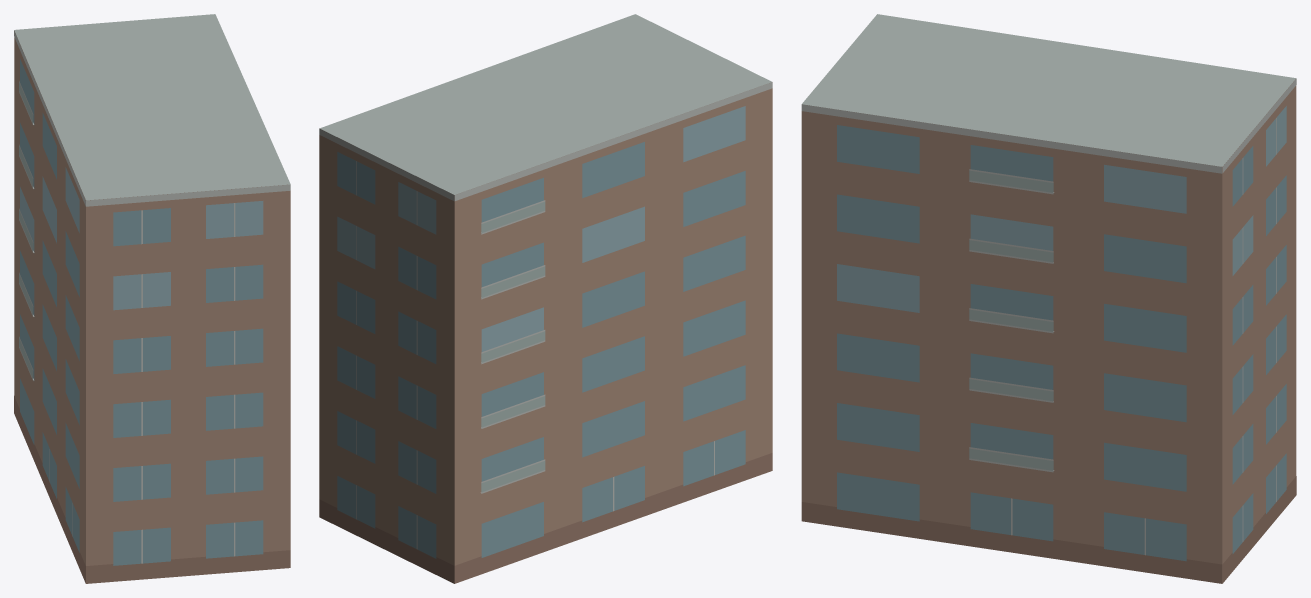
File: survey-upis-32960845.glb
3 views of the same model, side by side, from view 1: azimuth 30°, elevation 25°; view 2: azimuth 150°, elevation 25°; view 3: azimuth 270°, elevation 25° (orthographic). The views are drawn at different scales.
Visible parts, largest first — view 1: survey-upis-32960845.tmp; view 2: survey-upis-32960845.tmp; view 3: survey-upis-32960845.tmp.
Part boxes in pixels (x1,y1,x2,y2): survey-upis-32960845.tmp: (14,14,290,583); survey-upis-32960845.tmp: (319,14,772,583); survey-upis-32960845.tmp: (801,14,1296,583).
Size of the model in its own units: 11.69 by 14.85 by 15.98.
